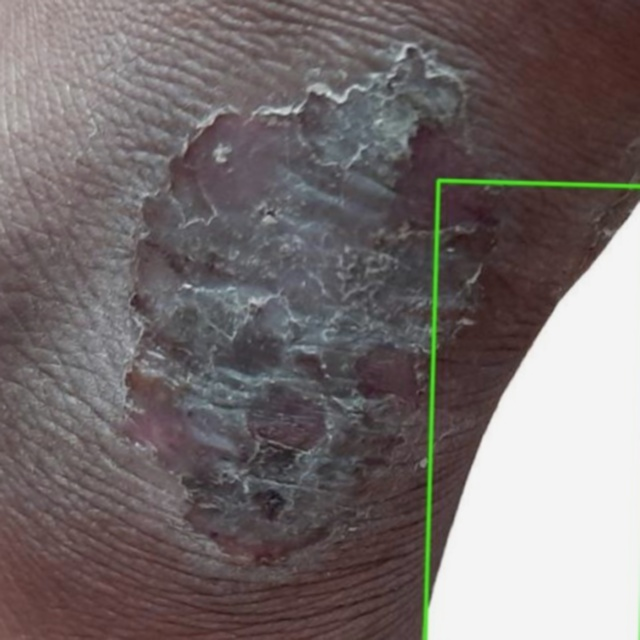Contact Dermatitis: (425, 180, 639, 639)
